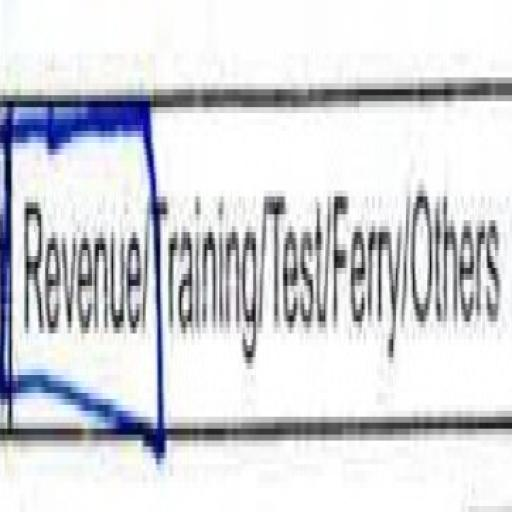check: (0, 31, 150, 512)
